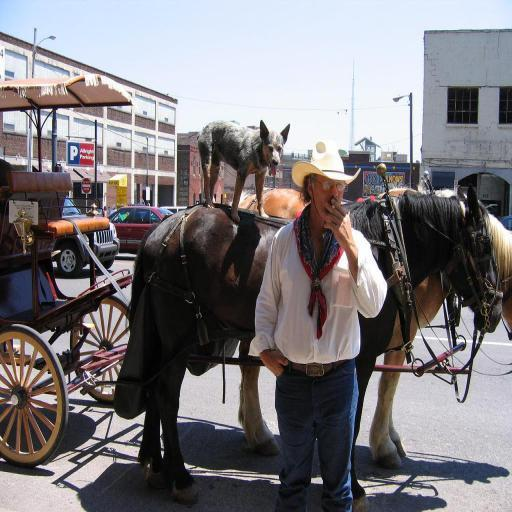horse: (238, 184, 512, 470)
